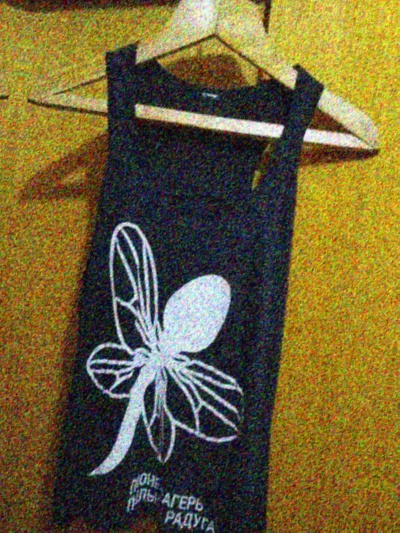Dress: (7, 1, 381, 533)
